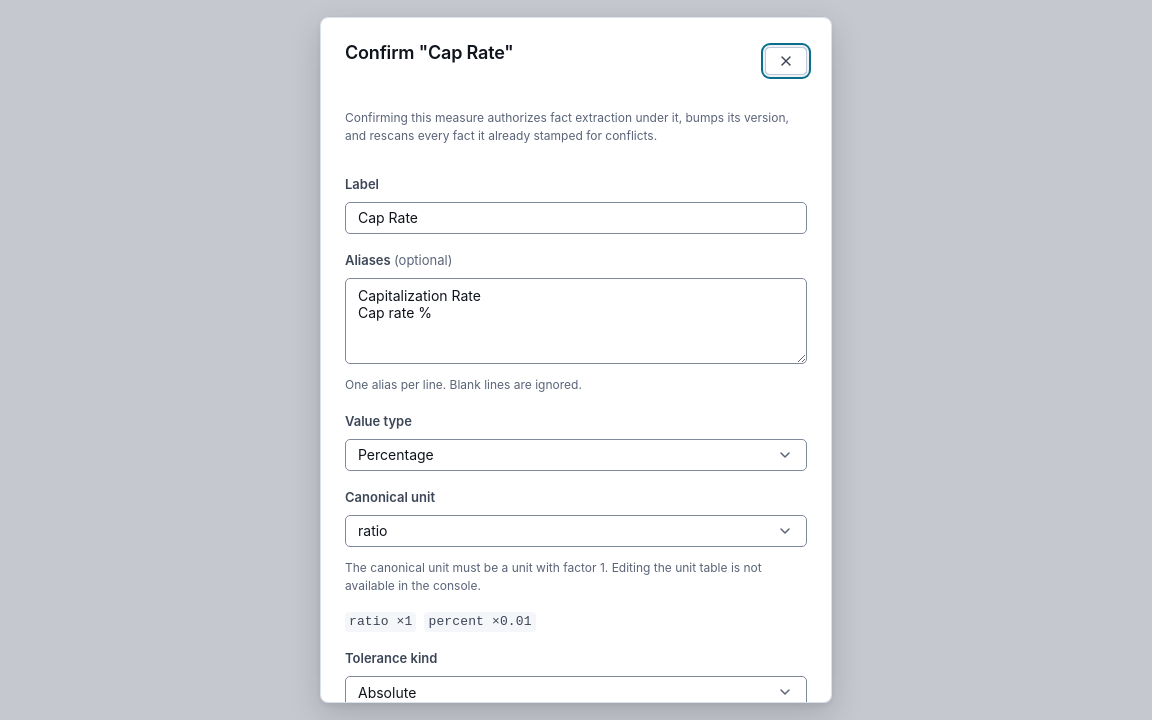
Test: MeasureEditorDialog › focuses the error summary and lists the error when Label is cleared
Clear the field labelled "Label" at (576,218), box x1=345 y1=202 x2=807 y2=234
(page scrolled)
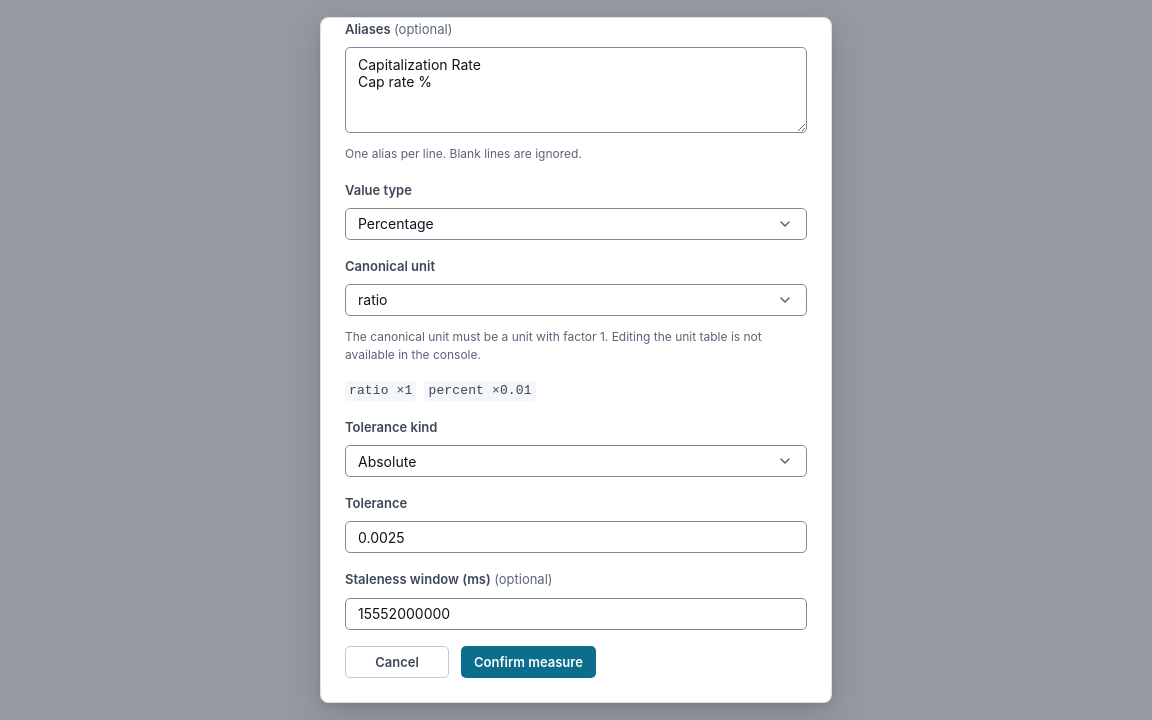
Click the button "Confirm measure".
click(528, 662)  # box x1=461 y1=646 x2=596 y2=678
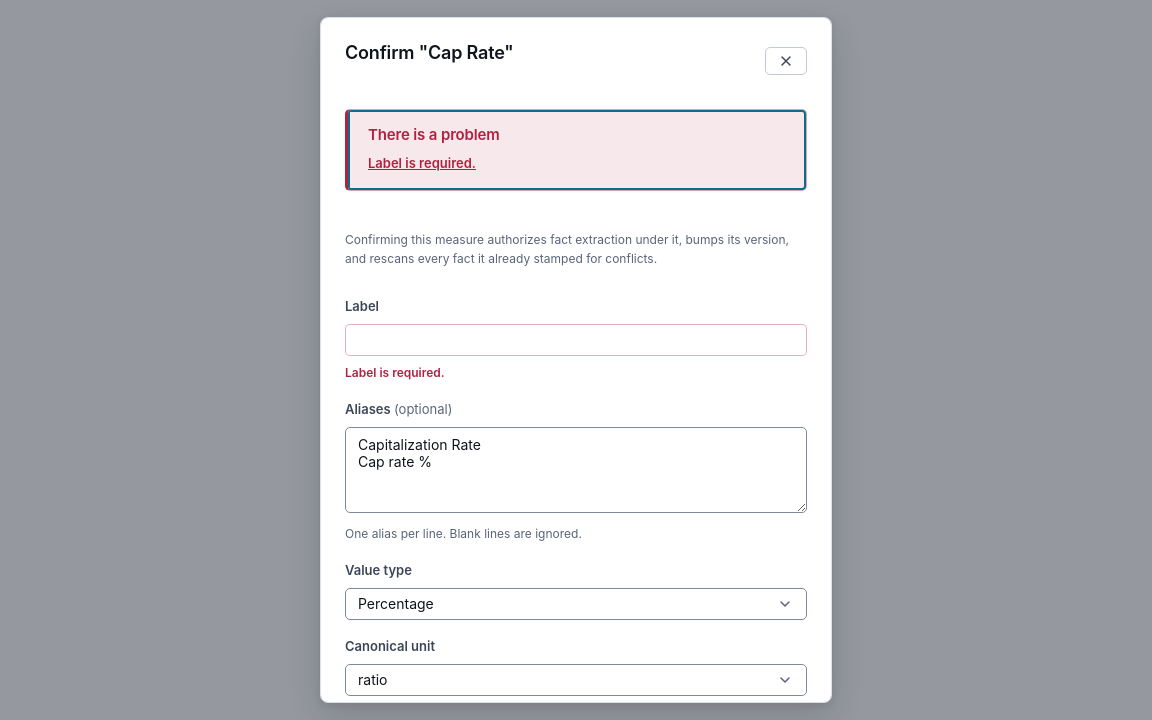
Expected: the link "Label is required." is shown, x1=368 y1=155 x2=476 y2=171
Expected: the text "Label is required." is shown, x1=344 y1=364 x2=445 y2=380
